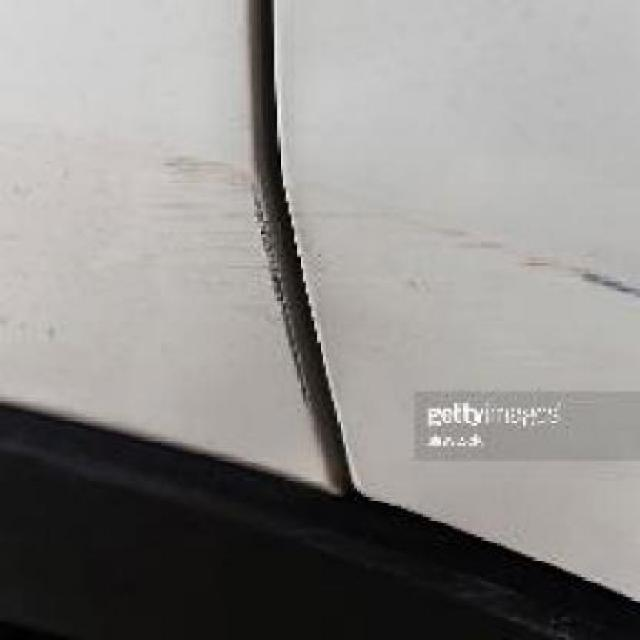dent-or-scratch: (130, 121, 635, 391)
